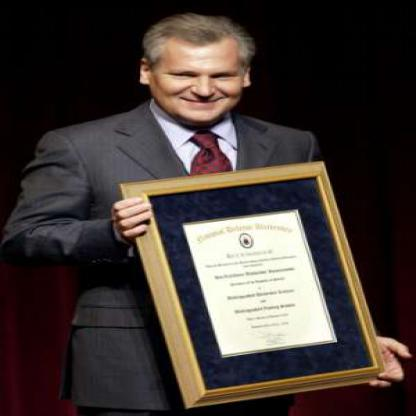face: (151, 18, 249, 125)
